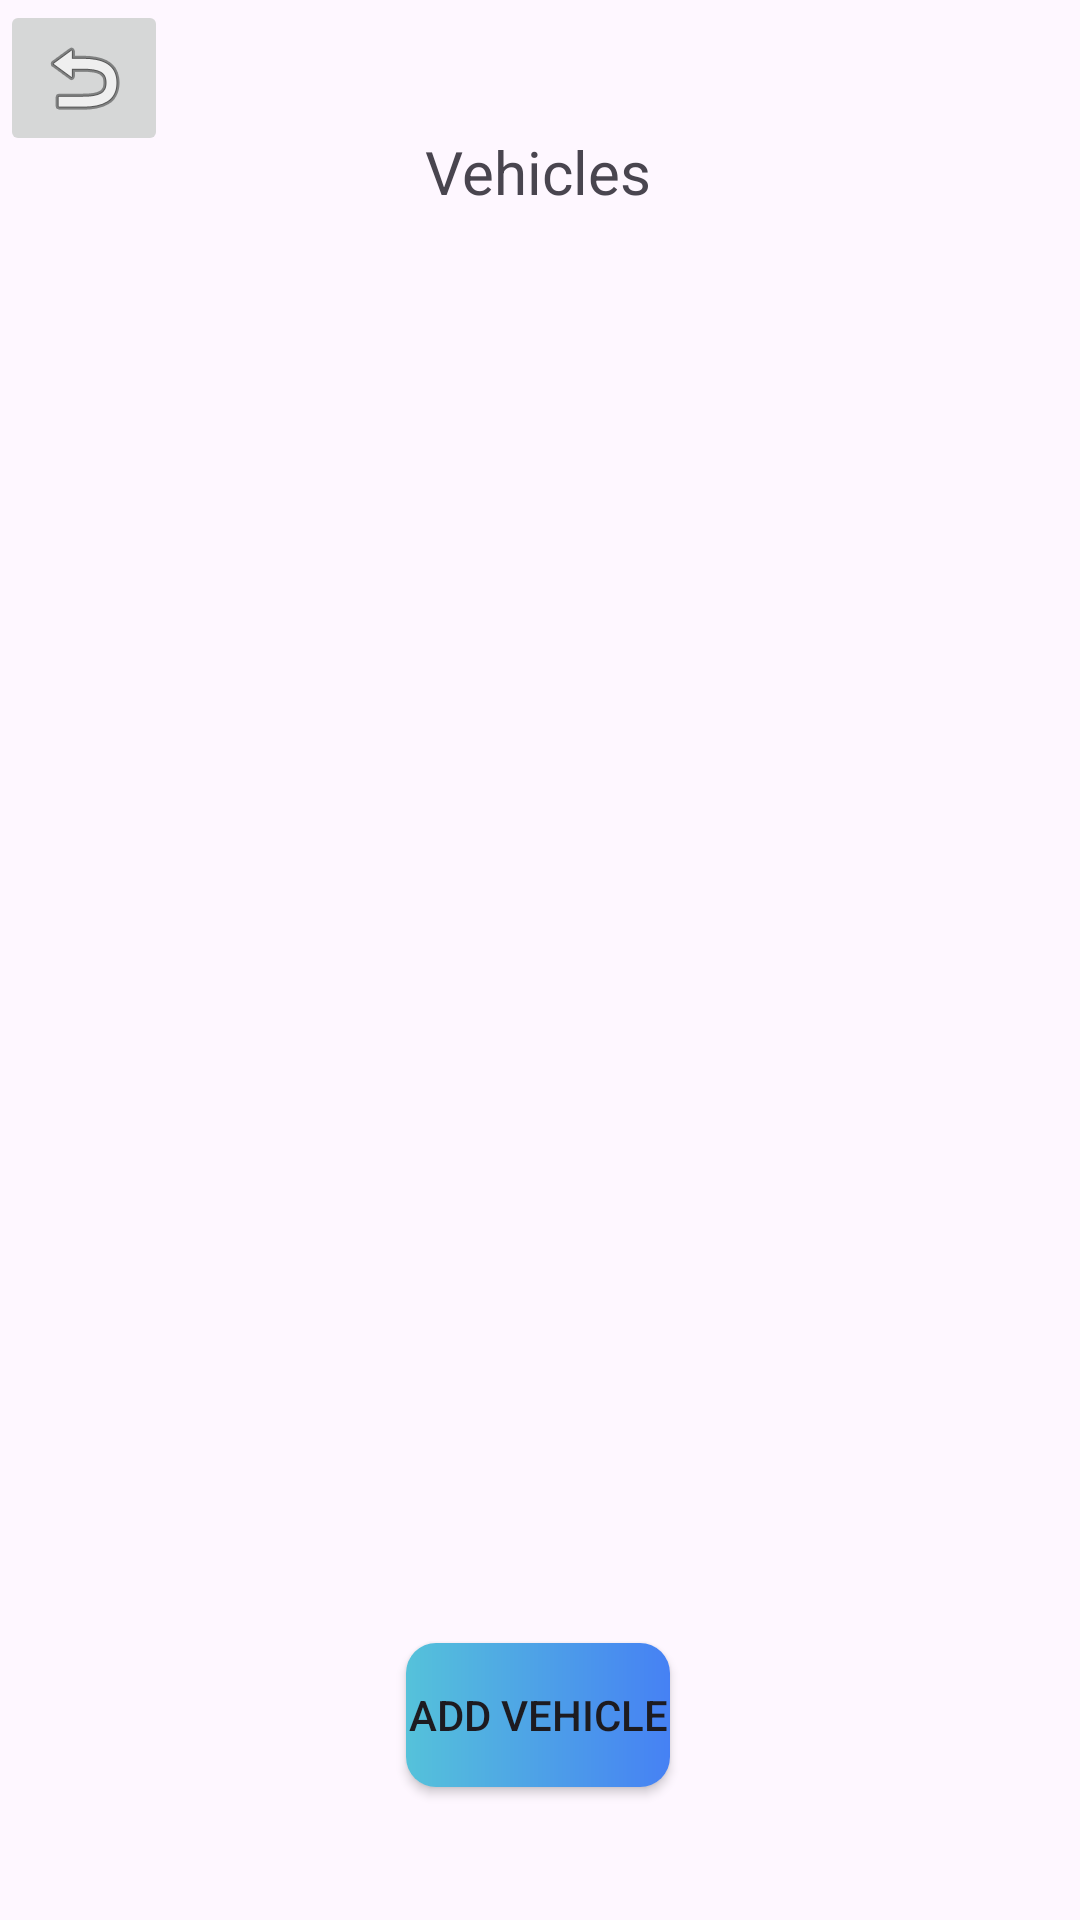

Where to tap for icons on this 1080px×1920px app screen, as point (x, y):
revert: point (84, 78)
